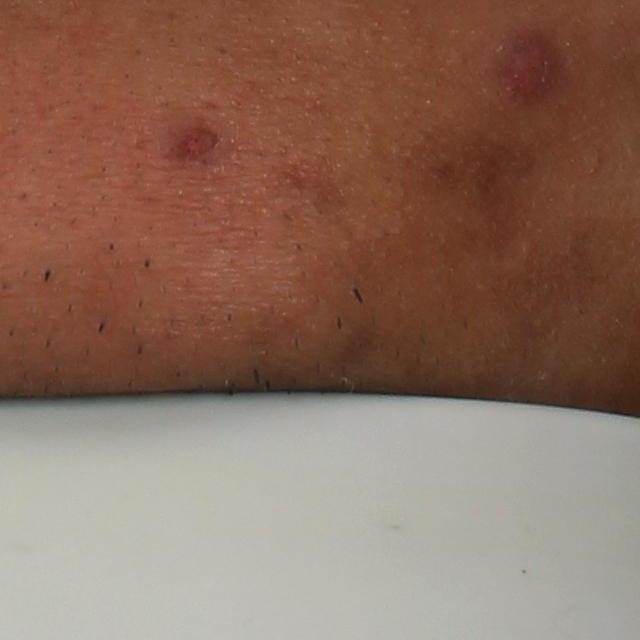papule: (490, 32, 566, 109)
